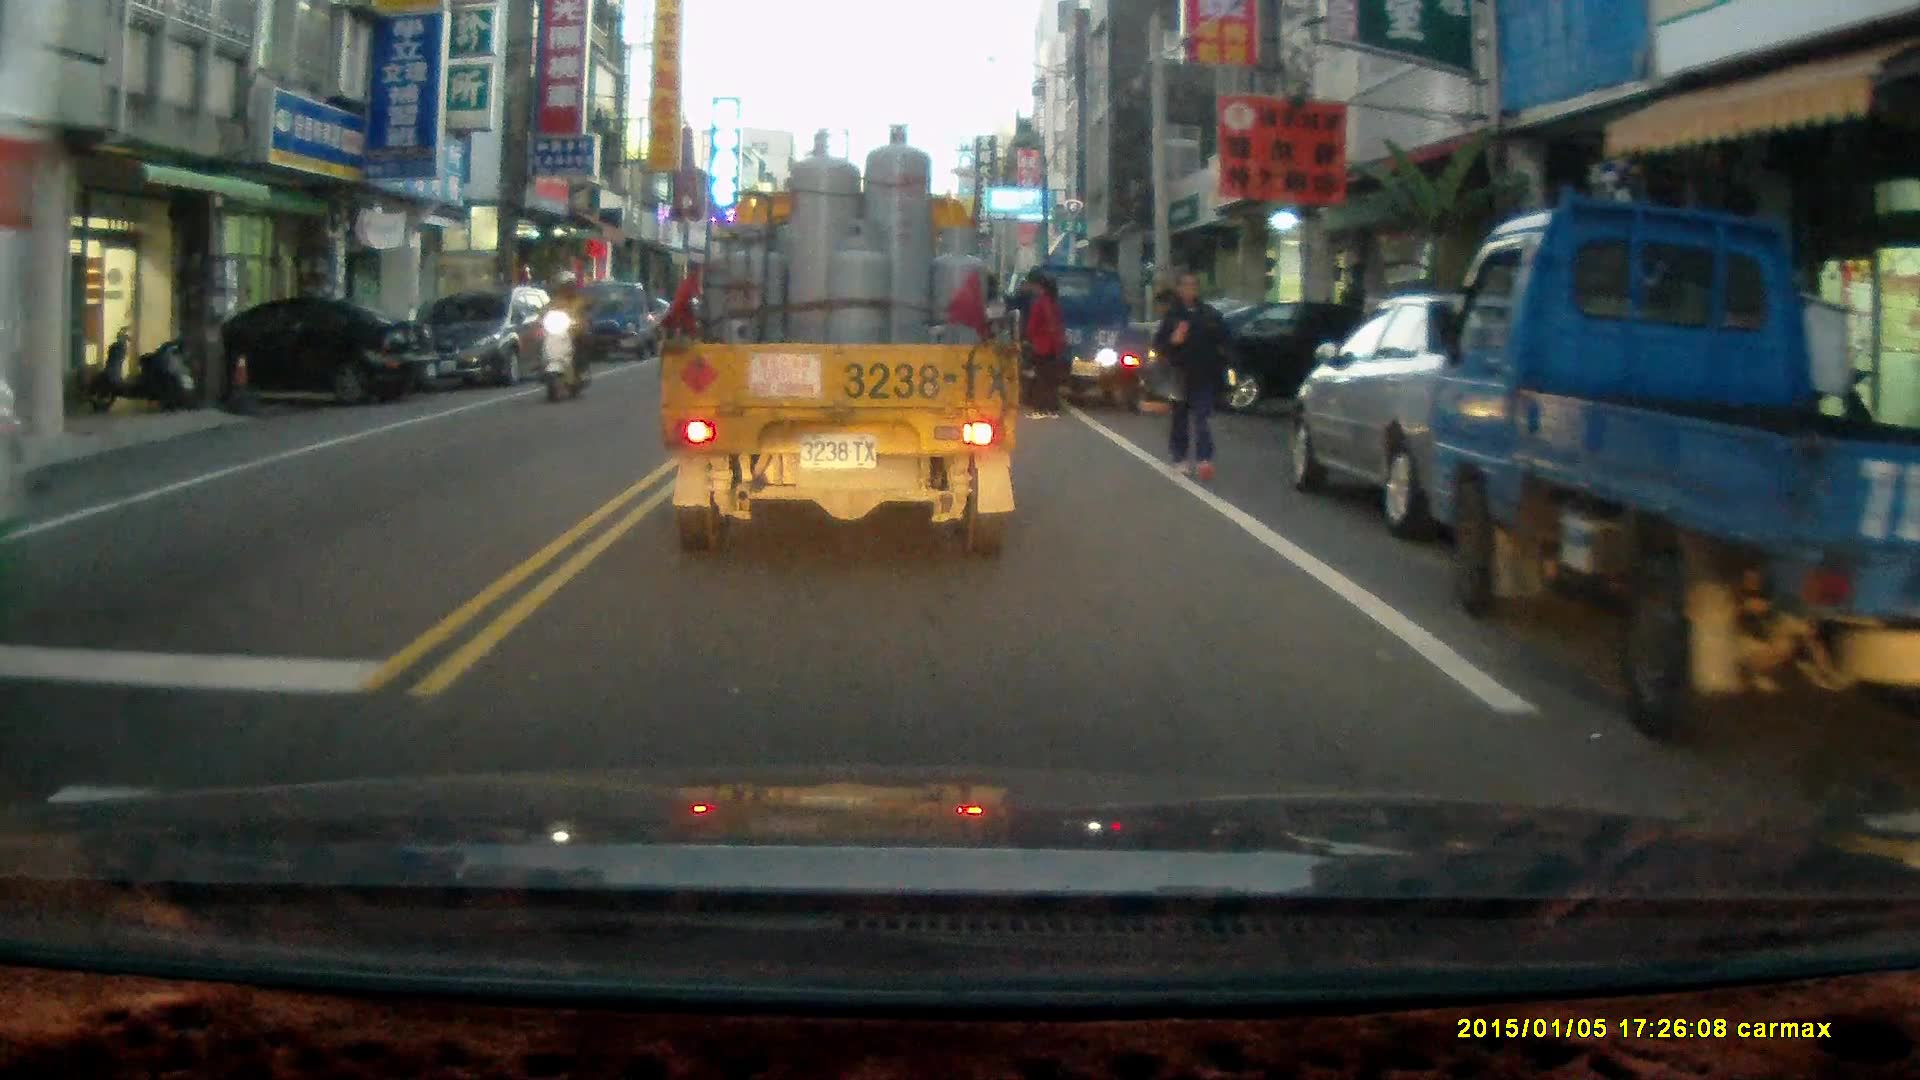pedestrian: (1149, 269, 1245, 483), (1024, 275, 1062, 414)
rider: (533, 265, 593, 402)
vehicle: (1425, 194, 1920, 750), (663, 123, 1024, 562), (1288, 289, 1623, 547), (1162, 296, 1442, 426), (1006, 261, 1156, 409), (423, 290, 567, 394), (571, 279, 675, 364)
